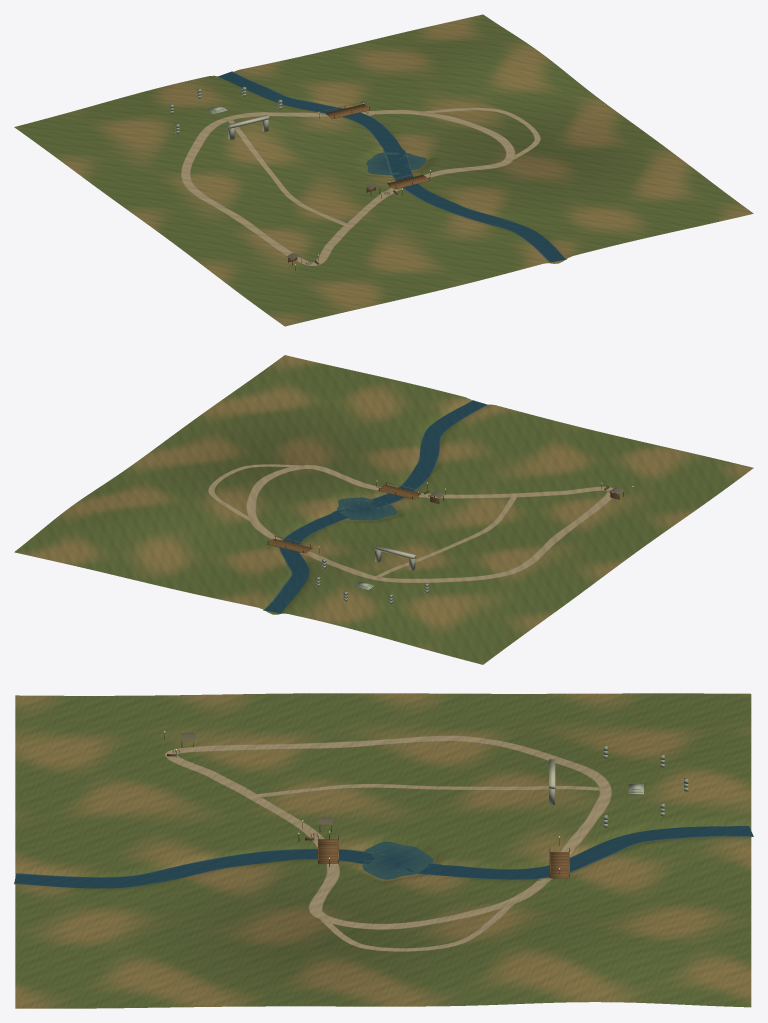
File: terrain_landmarks.glb
3 views of the same model, one above another, from view 1: azimuth 30°, elevation 25°; view 2: azimuth 150°, elevation 25°; view 3: azimuth 270°, elevation 25° (orthographic). The views are drawn at different scales.
Visible parts, largest first — view 1: River, Path_main_loop, Terrain_4_1, Terrain_0_1, Terrain_5_2, Terrain_2_2, Terrain_0_0, Terrain_2_4, Terrain_2_5, Terrain_1_2, Terrain_4_4, Terrain_5_4 (+29 smaller); view 2: River, Path_main_loop, Terrain_1_0, Terrain_4_0, Terrain_5_0, Terrain_0_0, Terrain_4_1, Terrain_0_1, Terrain_0_5, Terrain_4_5, Terrain_4_4, Terrain_2_5 (+29 smaller); view 3: River, Path_main_loop, Terrain_5_1, Terrain_3_0, Terrain_5_0, Terrain_5_2, Terrain_5_5, Terrain_5_3, Terrain_5_4, Terrain_0_5, Terrain_1_5, Terrain_4_5 (+29 smaller).
Part boxes in pixels (bbox=[...]): River: bbox=[218, 71, 566, 262]; Path_main_loop: bbox=[181, 109, 515, 265]; Terrain_4_1: bbox=[372, 58, 494, 115]; Terrain_0_1: bbox=[59, 137, 181, 192]; Terrain_5_2: bbox=[495, 78, 617, 130]; Terrain_2_2: bbox=[261, 134, 375, 188]; Terrain_0_0: bbox=[14, 106, 136, 159]; Terrain_2_4: bbox=[355, 203, 473, 255]; Terrain_2_5: bbox=[396, 237, 518, 289]; Terrain_1_2: bbox=[190, 151, 305, 207]; Terrain_4_4: bbox=[508, 164, 630, 216]; Terrain_5_4: bbox=[586, 146, 708, 197]; River: bbox=[263, 400, 487, 613]; Path_main_loop: bbox=[246, 465, 615, 582]; Terrain_1_0: bbox=[327, 586, 449, 643]; Terrain_4_0: bbox=[92, 530, 214, 588]; Terrain_5_0: bbox=[14, 515, 136, 569]; Terrain_0_0: bbox=[405, 609, 527, 664]; Terrain_4_1: bbox=[137, 499, 260, 554]; Terrain_0_1: bbox=[450, 578, 572, 631]; Terrain_0_5: bbox=[631, 449, 753, 500]; Terrain_4_5: bbox=[318, 373, 440, 424]; Terrain_4_4: bbox=[273, 405, 395, 456]; Terrain_2_5: bbox=[475, 411, 596, 463]; River: bbox=[14, 826, 753, 888]; Path_main_loop: bbox=[165, 735, 611, 929]; Terrain_5_1: bbox=[506, 943, 628, 1004]; Terrain_3_0: bbox=[628, 843, 751, 900]; Terrain_5_0: bbox=[628, 944, 751, 1007]; Terrain_5_2: bbox=[383, 947, 505, 1006]; Terrain_5_5: bbox=[15, 954, 137, 1008]; Terrain_5_3: bbox=[260, 953, 383, 1006]; Terrain_5_4: bbox=[138, 954, 260, 1007]; Terrain_0_5: bbox=[15, 695, 137, 748]; Terrain_1_5: bbox=[15, 748, 137, 801]; Terrain_4_5: bbox=[15, 902, 137, 954].
Bounding box in the file's own units: 192 × 10.28 × 193.
4 materials, 2 textured.
